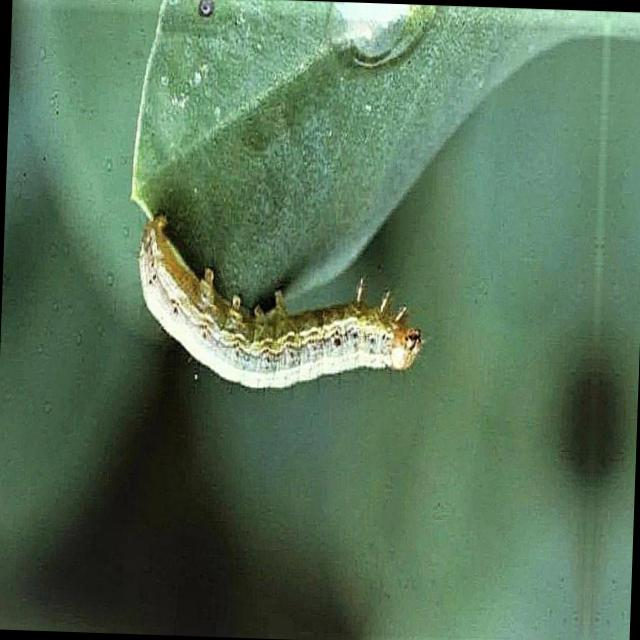Armyworm: (123, 202, 461, 440)
